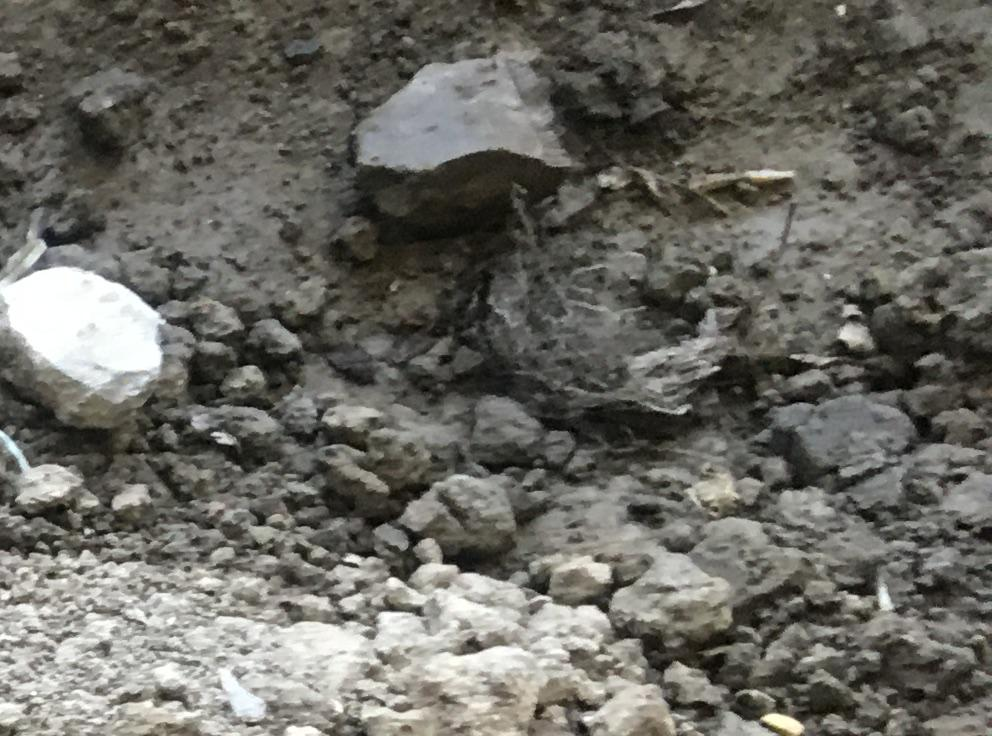block: (355, 54, 569, 229), (1, 267, 169, 430)
